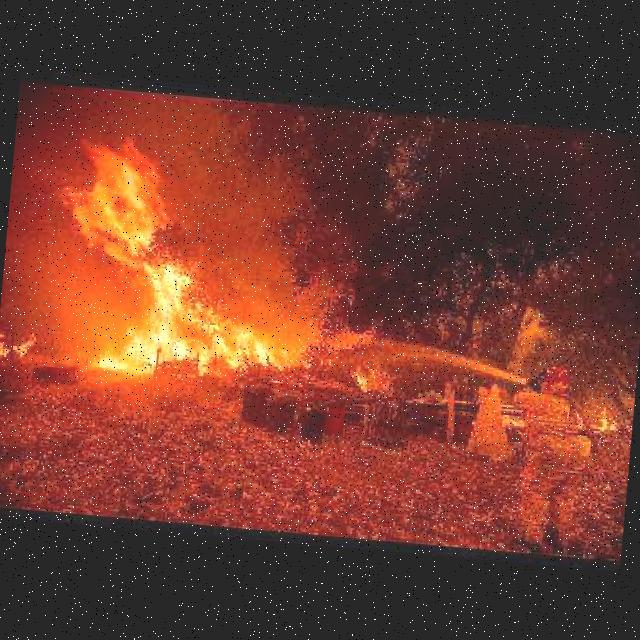Fire: (52, 142, 300, 381)
